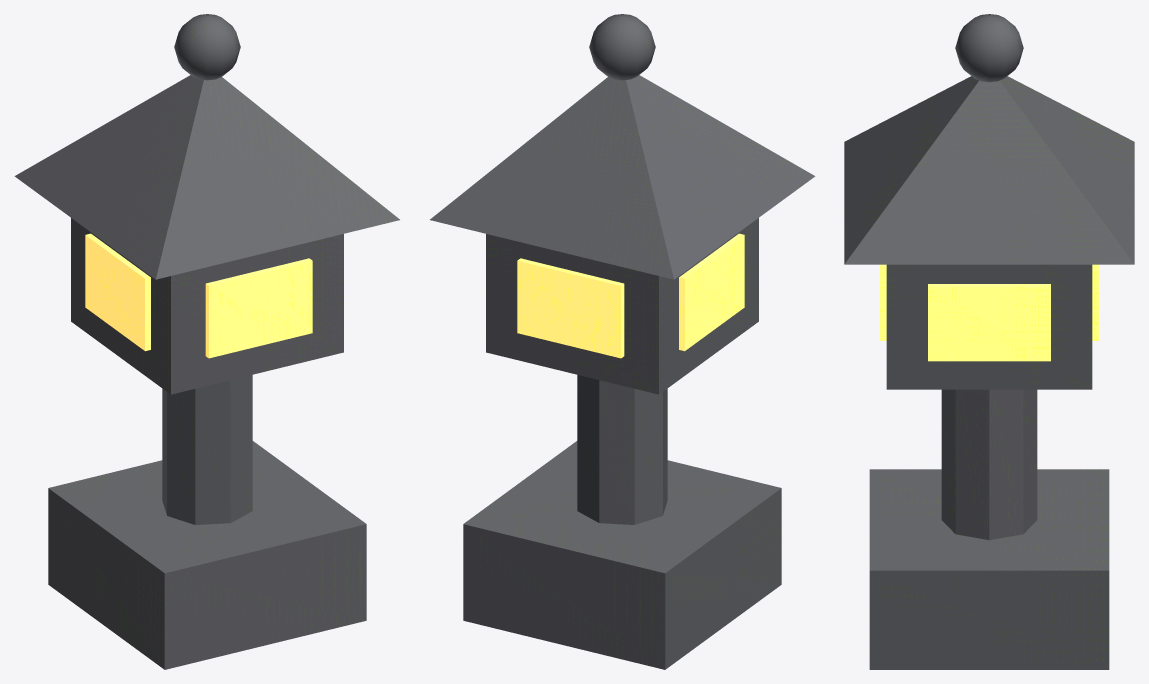
The model's file is candle-lantern.glb.
3 views of the same model, side by side, from view 1: azimuth 30°, elevation 25°; view 2: azimuth 150°, elevation 25°; view 3: azimuth 270°, elevation 25° (orthographic). The views are drawn at different scales.
Parts seen in each view (by area): view 1: Cube; view 2: Cube; view 3: Cube.
Part boxes in pixels (x1,y1,x2,y2): Cube: (14, 14, 399, 669); Cube: (430, 14, 815, 669); Cube: (844, 14, 1134, 669).
Bounding box in the file's own units: 0.4374 × 1 × 0.4374.
Materials: 1 (1 with a texture image).
